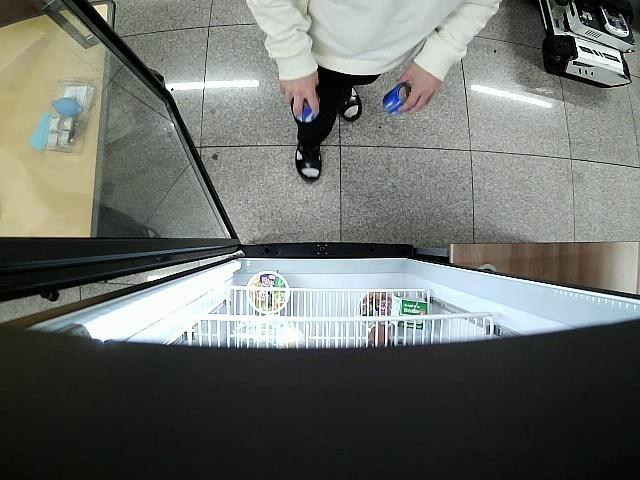13_pocariSweat: (382, 83, 412, 116), (292, 94, 317, 124)
